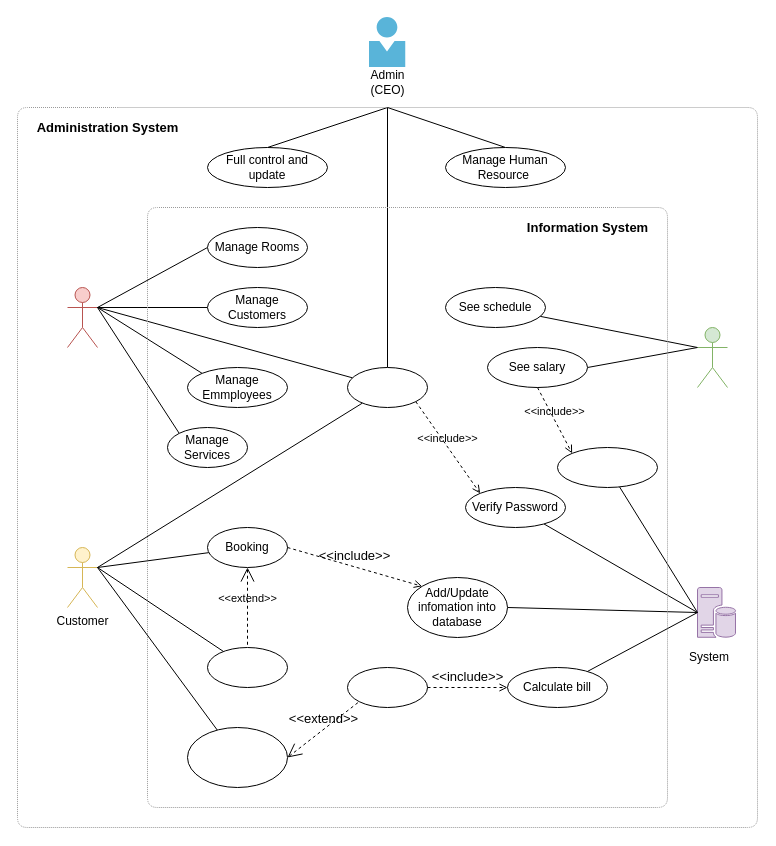
This 776x846 diagram has some shape labels left out. The box of each missing label's shape, as (x1, y1, x2, y2) in pixels:
Calculate salary: (556, 446, 658, 488)
Emmployee: (696, 326, 728, 388)
Export bill: (346, 666, 428, 708)
Login/Logout: (346, 366, 428, 408)
Manager: (66, 286, 98, 348)
Manager customer room: (186, 726, 288, 788)
Order service: (206, 646, 288, 688)
